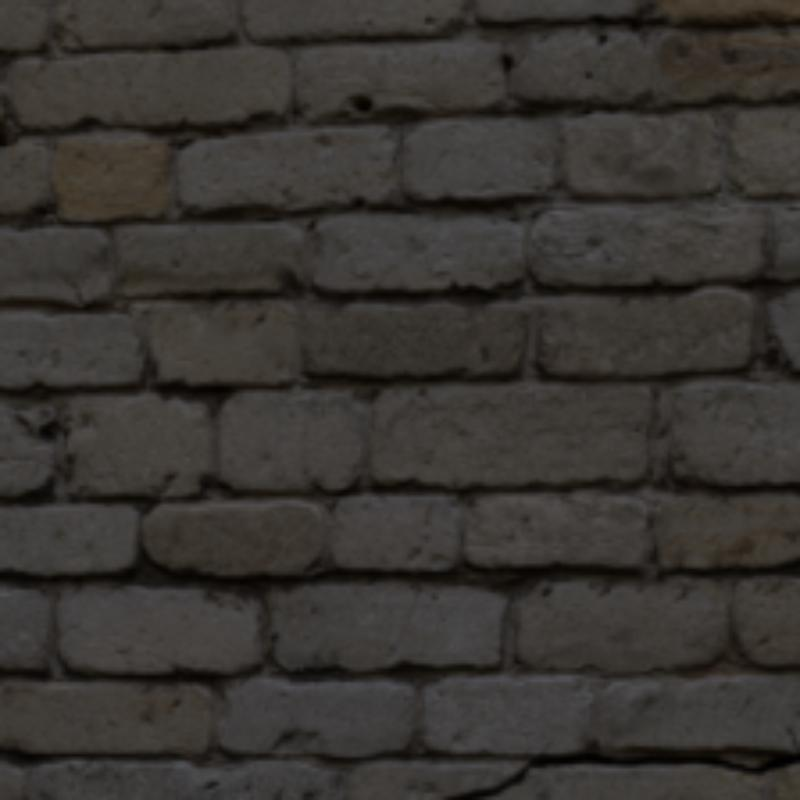pothole: (446, 754, 796, 796)
